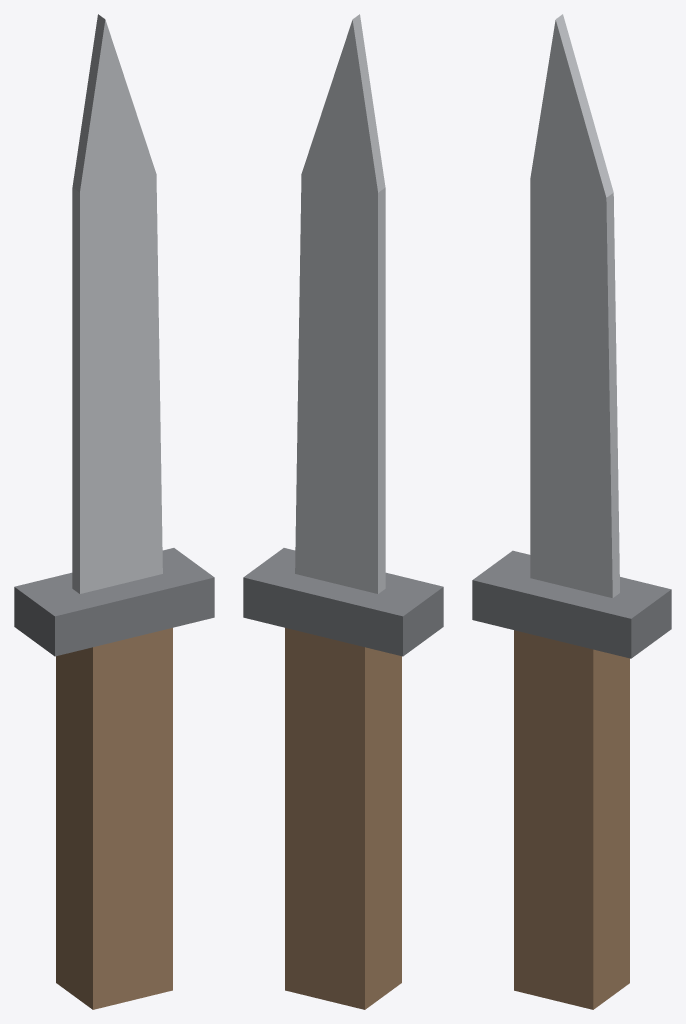
Rendered from faca.glb.
3 views of the same model, side by side, from view 1: azimuth 30°, elevation 25°; view 2: azimuth 150°, elevation 25°; view 3: azimuth 330°, elevation 25° (orthographic).
Visible parts, largest first — view 1: faca; view 2: faca; view 3: faca.
Boxes of the visible parts, bbox=[...] form: faca: bbox=[14, 14, 214, 1009]; faca: bbox=[243, 14, 443, 1009]; faca: bbox=[472, 14, 671, 1009].
Bounding box in the file's own units: 0.05 × 0.291 × 0.022.
